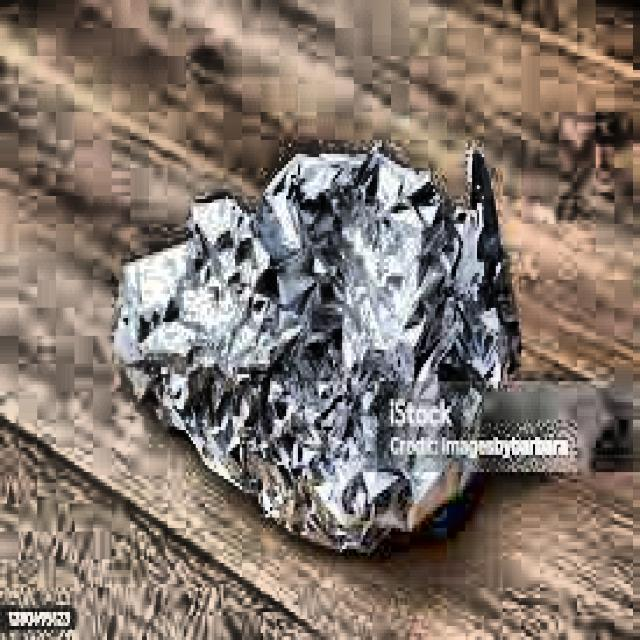Foil: (95, 110, 534, 578)
